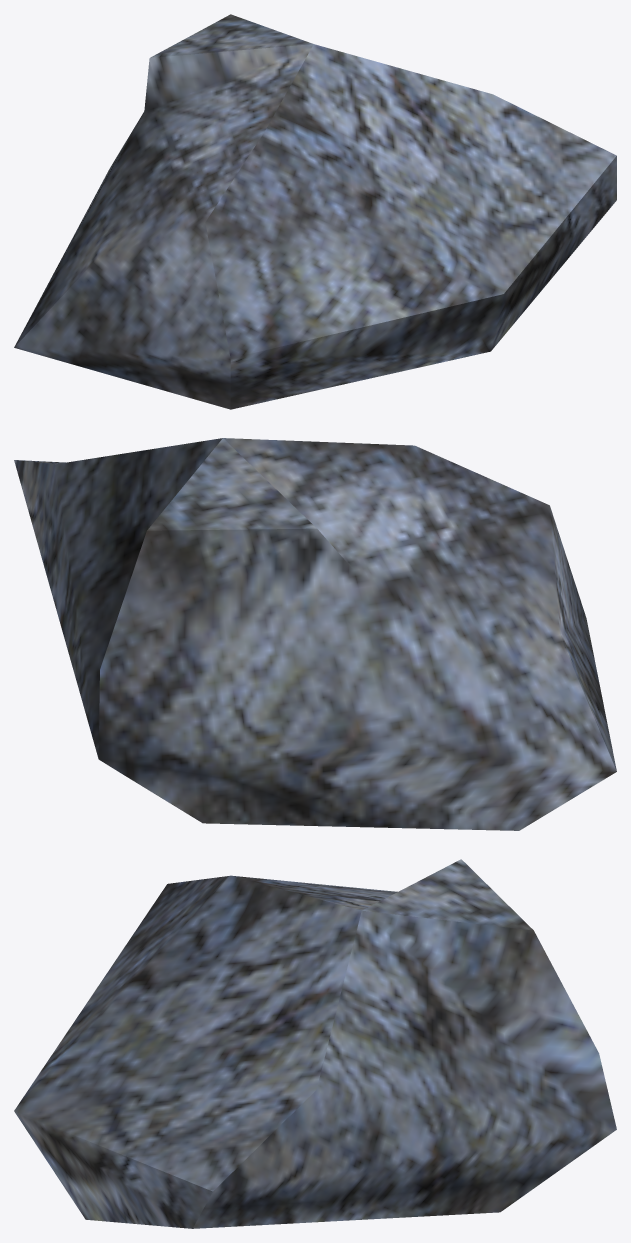
Rendered from Rock_2.fbx.
The picture shows the model from 3 angles, top to bottom: view 1: azimuth 30°, elevation 25°; view 2: azimuth 150°, elevation 25°; view 3: azimuth 270°, elevation 25°; orthographic projection. The views are drawn at different scales.
Visible parts, largest first — view 1: Detal333; view 2: Detal333; view 3: Detal333.
Part boxes in pixels (x1,y1,x2,y2): Detal333: (14, 14, 616, 409); Detal333: (14, 438, 616, 830); Detal333: (14, 859, 616, 1228).
Size of the model in its own units: 751 by 331 by 604.
